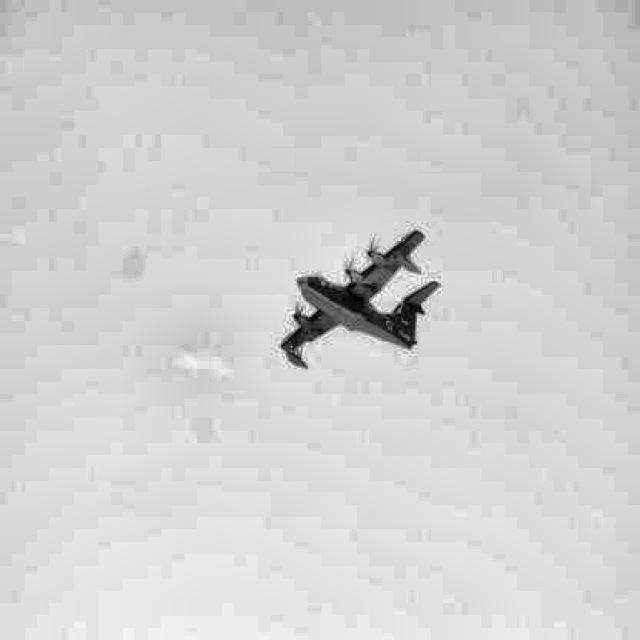US2: (278, 229, 440, 369)
